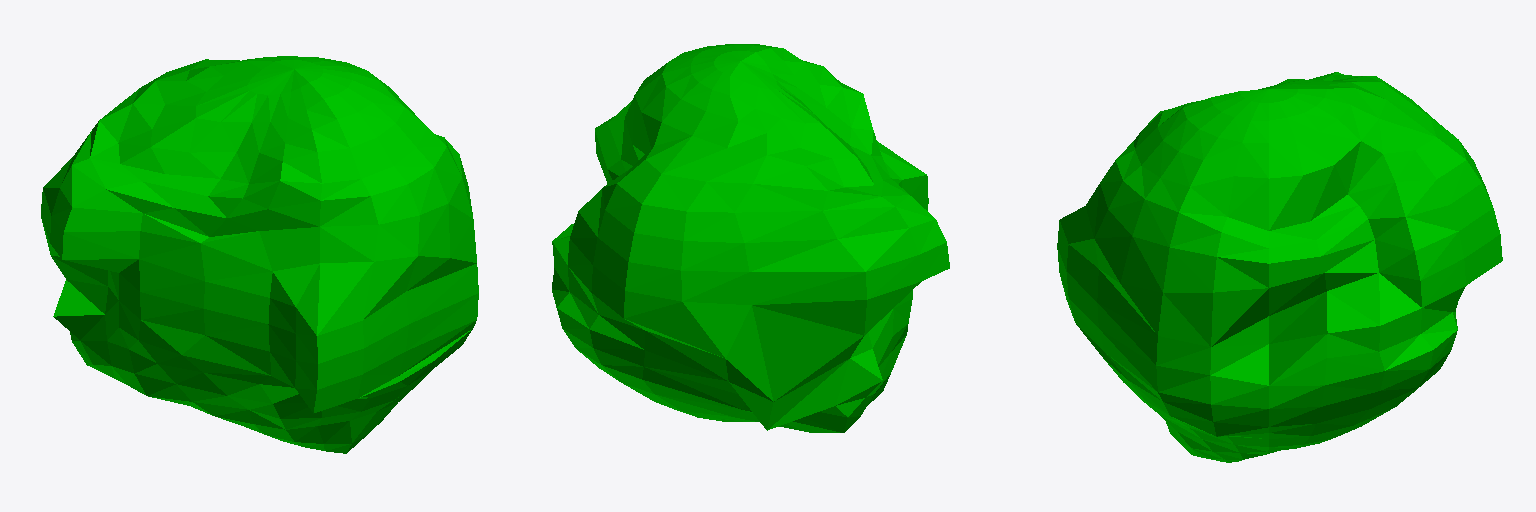
Rendered from meteor_green.obj.
3 views of the same model, side by side, from view 1: azimuth 30°, elevation 25°; view 2: azimuth 150°, elevation 25°; view 3: azimuth 270°, elevation 25° (orthographic).
Size of the model in its own units: 2.86 by 2.66 by 2.94.